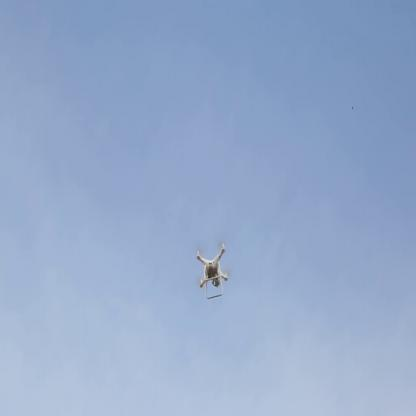drone: (192, 241, 232, 295)
